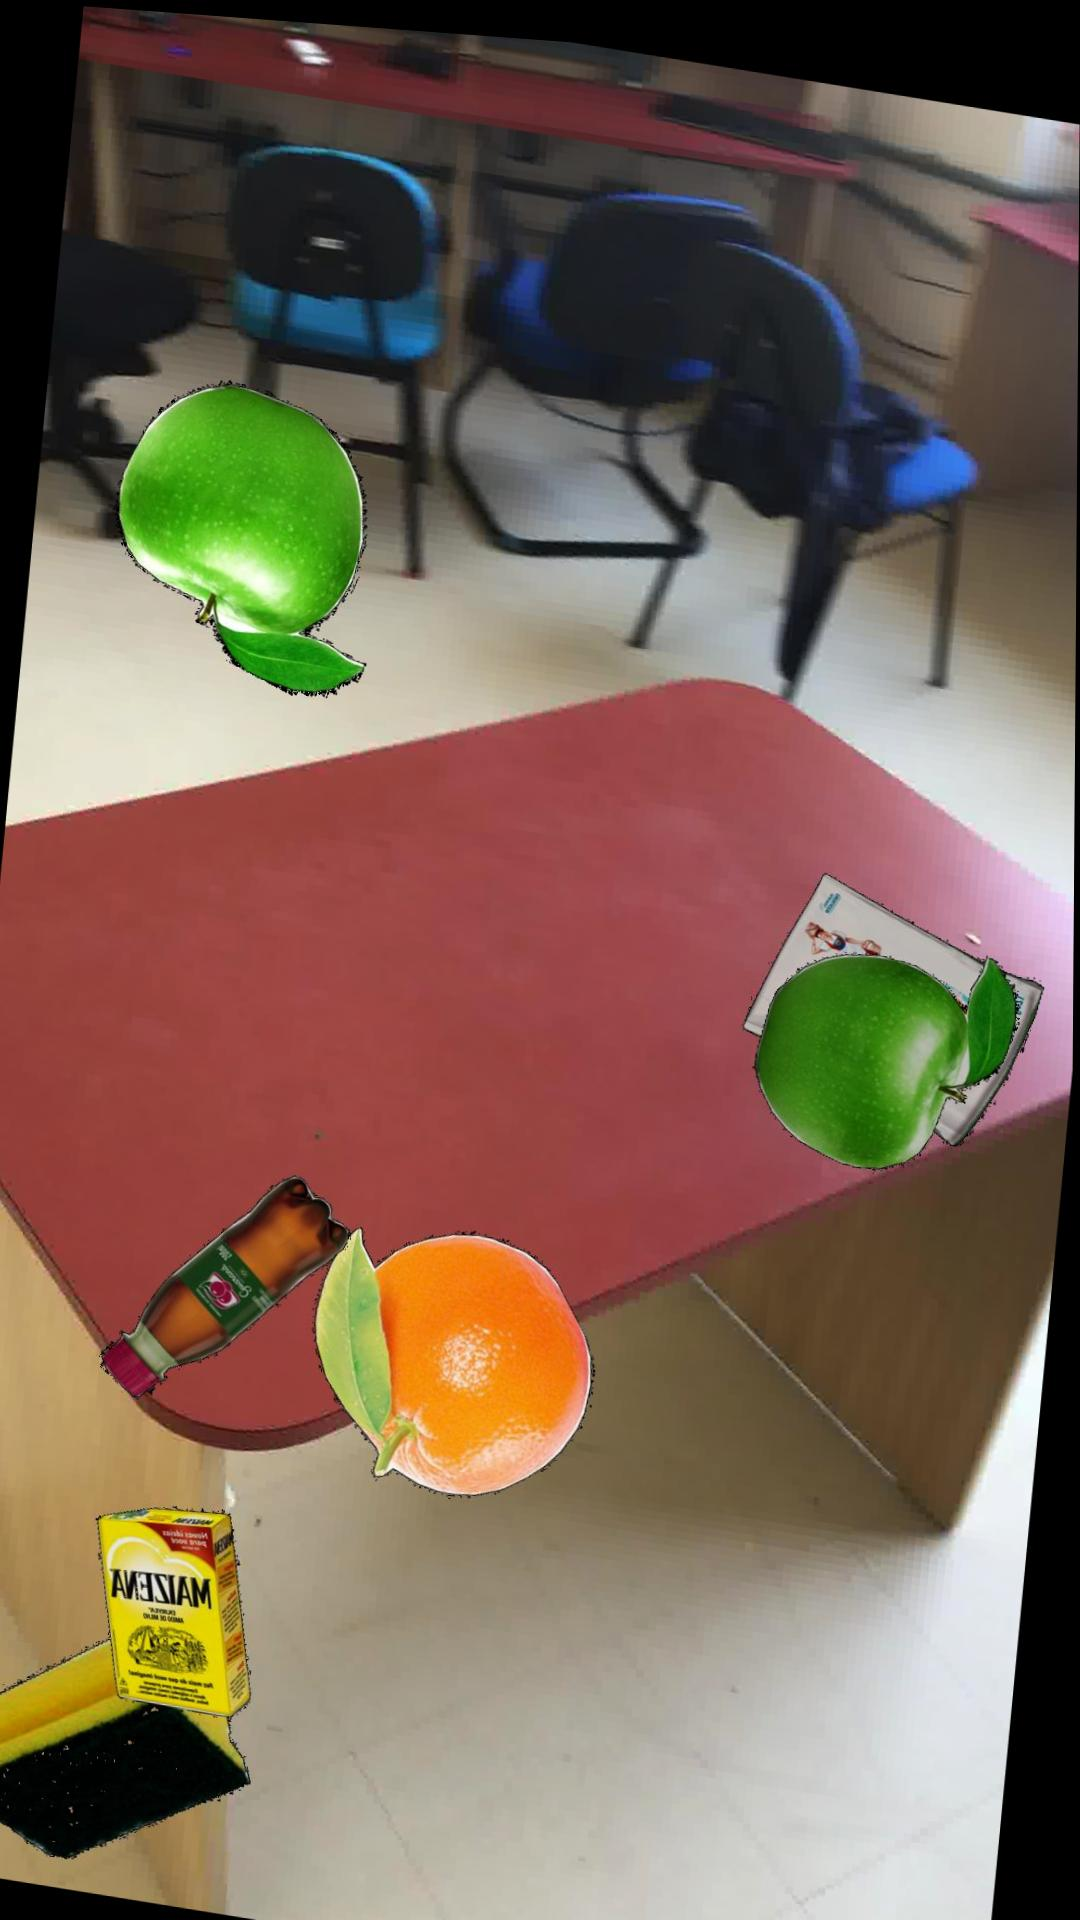corn flakes: (741, 857, 1043, 1129)
green apple: (113, 373, 365, 688), (752, 936, 1018, 1154)
guarana: (100, 1168, 351, 1393)
orange: (313, 1218, 593, 1486)
sponge: (0, 1634, 251, 1855)
